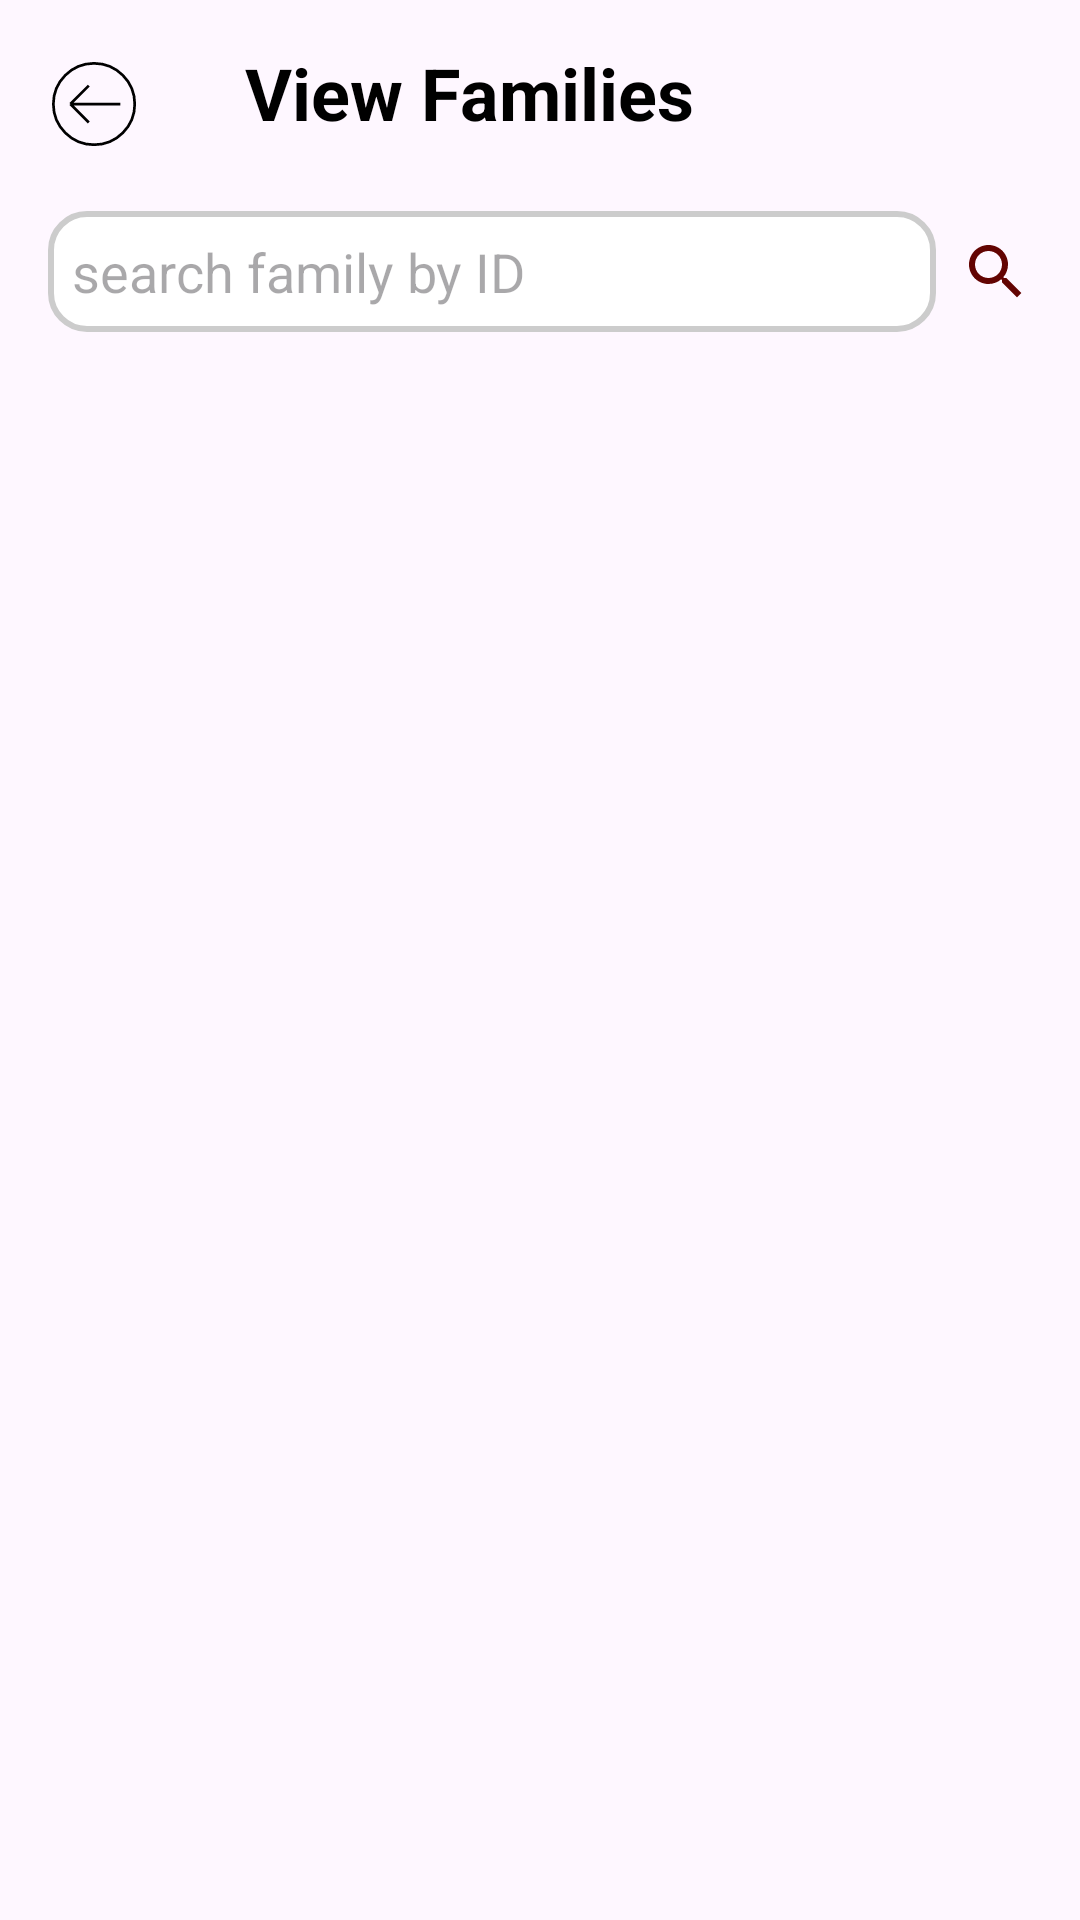

Where to tap for icons on this 1080px×1920px app screen, as (x=x, y=y):
back: (x=94, y=104)
